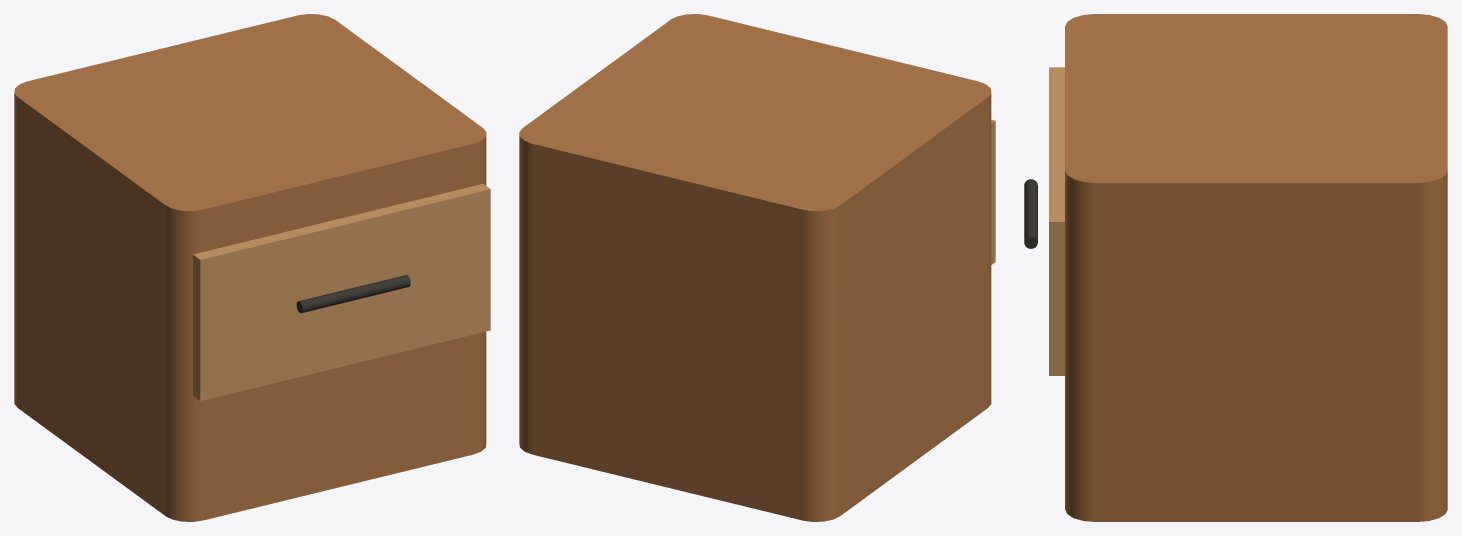
File: bedroom-bedside-cabinet-right.gltf
The picture shows the model from 3 angles, left to right: view 1: azimuth 30°, elevation 25°; view 2: azimuth 150°, elevation 25°; view 3: azimuth 270°, elevation 25°; orthographic projection. The views are drawn at different scales.
Visible parts, largest first — view 1: Bedside cabinet, Bedside drawer, Bedside drawer pull; view 2: Bedside cabinet, Bedside drawer; view 3: Bedside cabinet, Bedside drawer, Bedside drawer pull.
Part boxes in pixels (x1,y1,x2,y2): Bedside cabinet: (14, 14, 486, 521); Bedside drawer: (193, 184, 490, 401); Bedside drawer pull: (296, 275, 410, 313); Bedside cabinet: (519, 14, 991, 521); Bedside drawer: (991, 119, 995, 264); Bedside cabinet: (1065, 14, 1447, 521); Bedside drawer: (1049, 67, 1064, 375); Bedside drawer pull: (1024, 179, 1037, 248).
Size of the model in its own units: 0.47 by 0.44 by 0.498.
